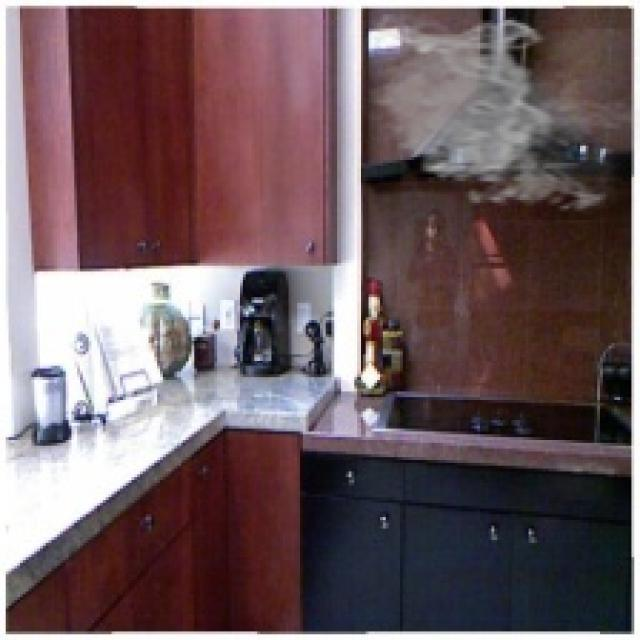Smoke: (366, 14, 638, 220)
